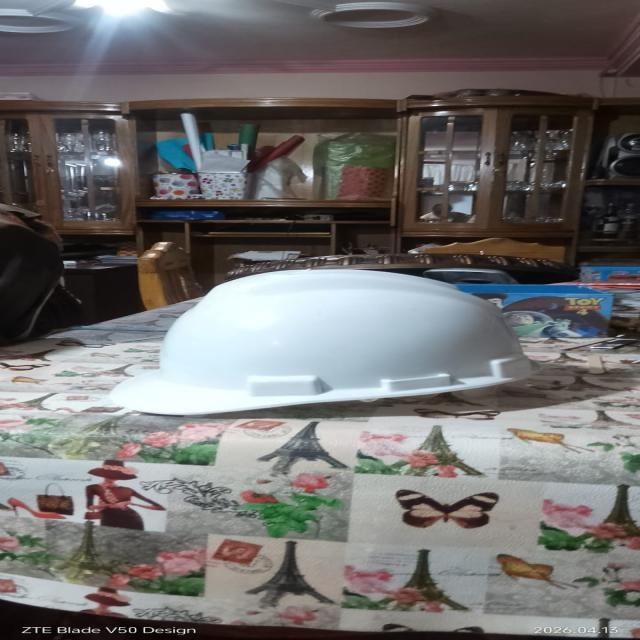casco: (89, 260, 559, 427)
